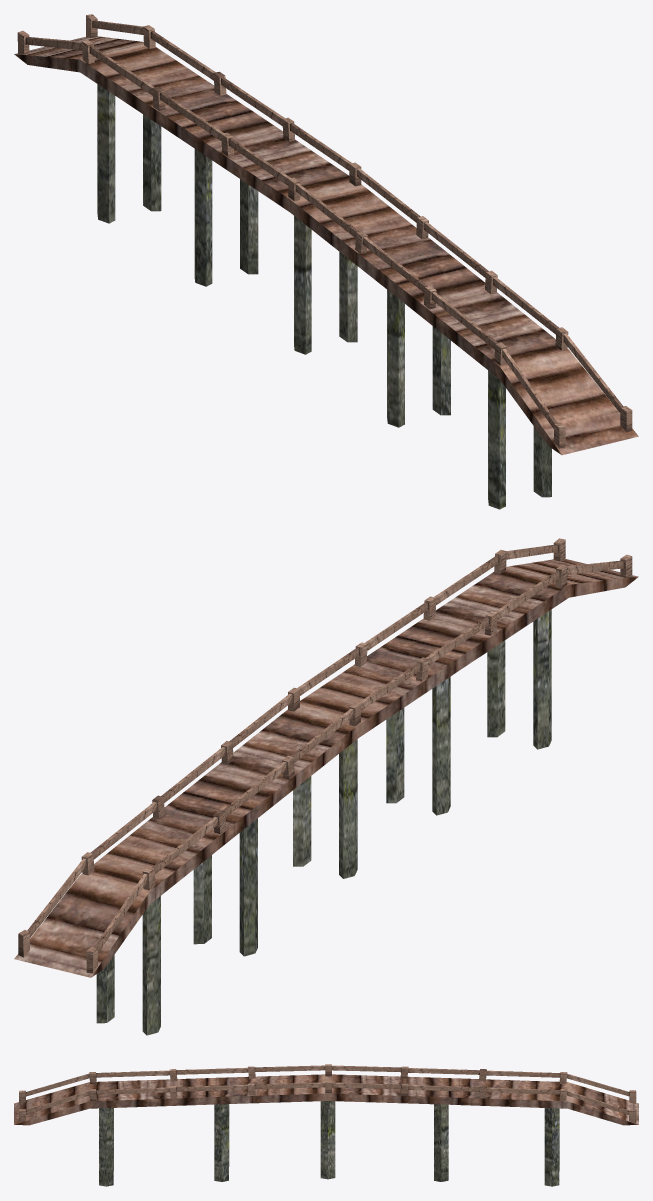
The model's file is ps1Bridge.fbx.
3 renders of one model, top to bottom at view 1: azimuth 30°, elevation 25°; view 2: azimuth 150°, elevation 25°; view 3: azimuth 270°, elevation 25°, orthographic. The views are drawn at different scales.
Visible parts, largest first — view 1: Cube; view 2: Cube; view 3: Cube.
Boxes of the visible parts, x1,y1,x2,y2 form: Cube: (14,14,638,509); Cube: (14,538,638,1035); Cube: (14,1064,638,1186).
Bounding box in the file's own units: 6.5 × 80.15 × 14.79.
Materials: 3 (3 with a texture image).
